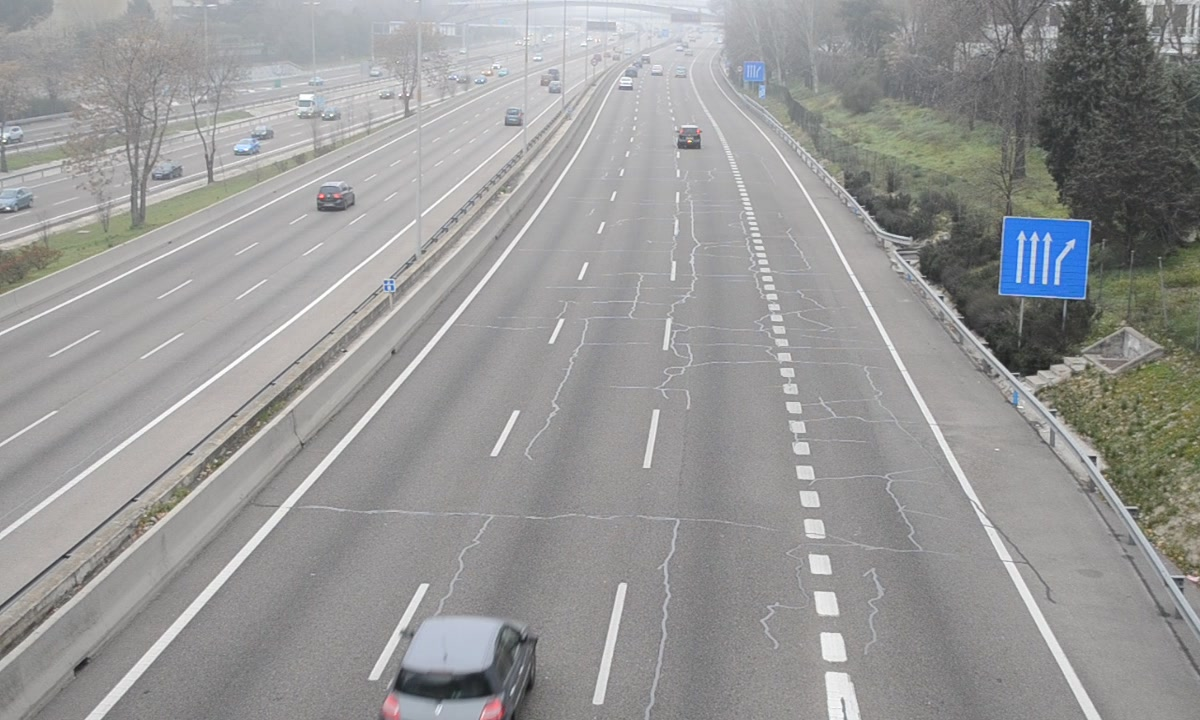car: (379, 615, 538, 718), (675, 124, 703, 150)
